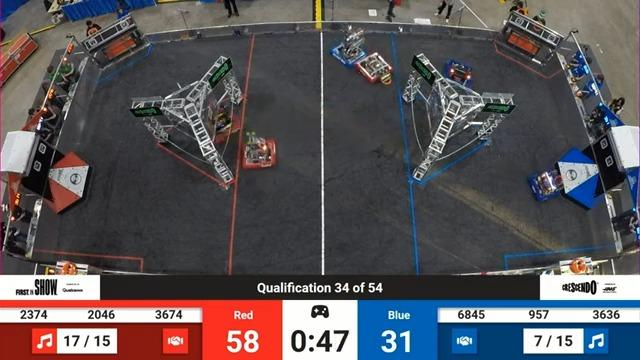robot: (436, 55, 482, 105), (325, 21, 369, 68), (237, 133, 284, 174), (201, 102, 244, 146), (352, 46, 395, 89), (526, 164, 564, 208)
